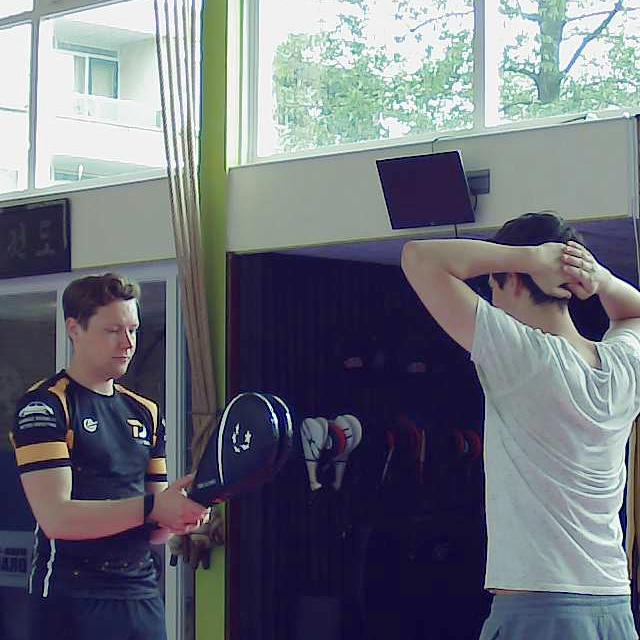paddle: (186, 393, 293, 501)
